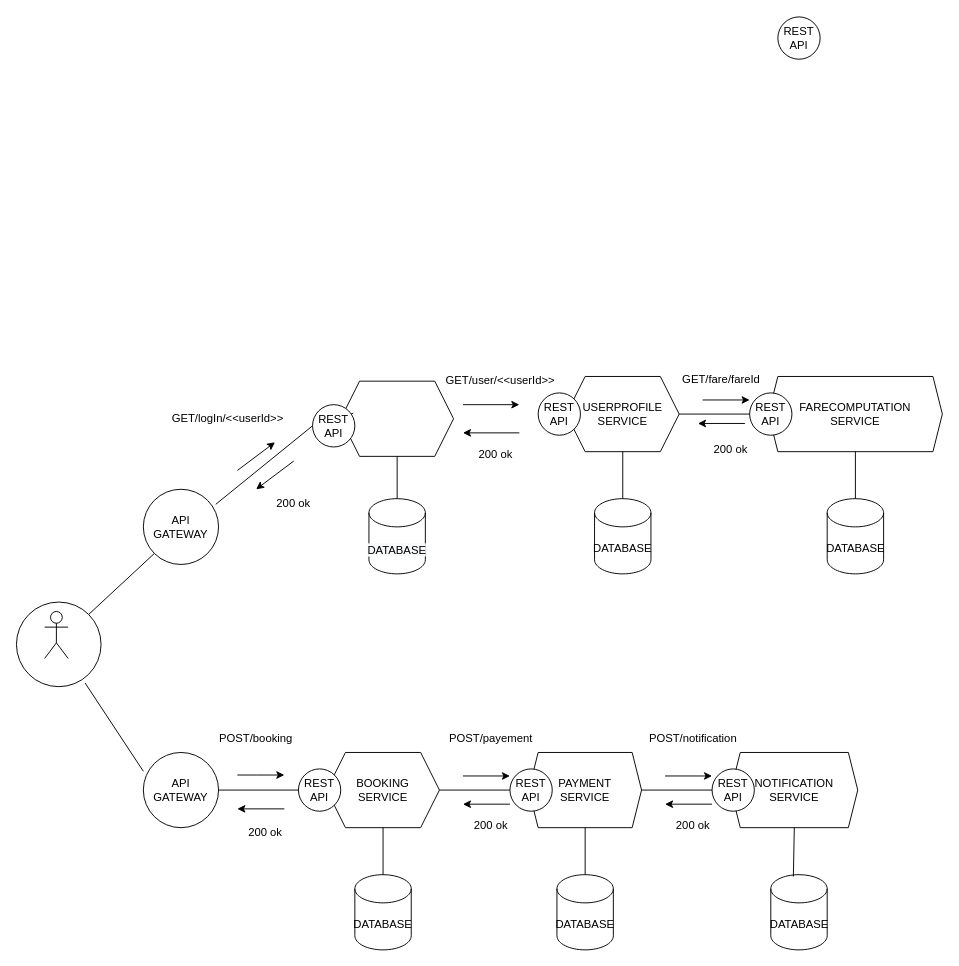
Some shapes in this 959 by 966 pixel diagram are drawn without their labels. The shapes that lost their labels are listed below. From the top down, each one's centre as x and y in pixels, then its label:
the point at 397,418: LOGIN SERVICE
the point at 56,634: User
